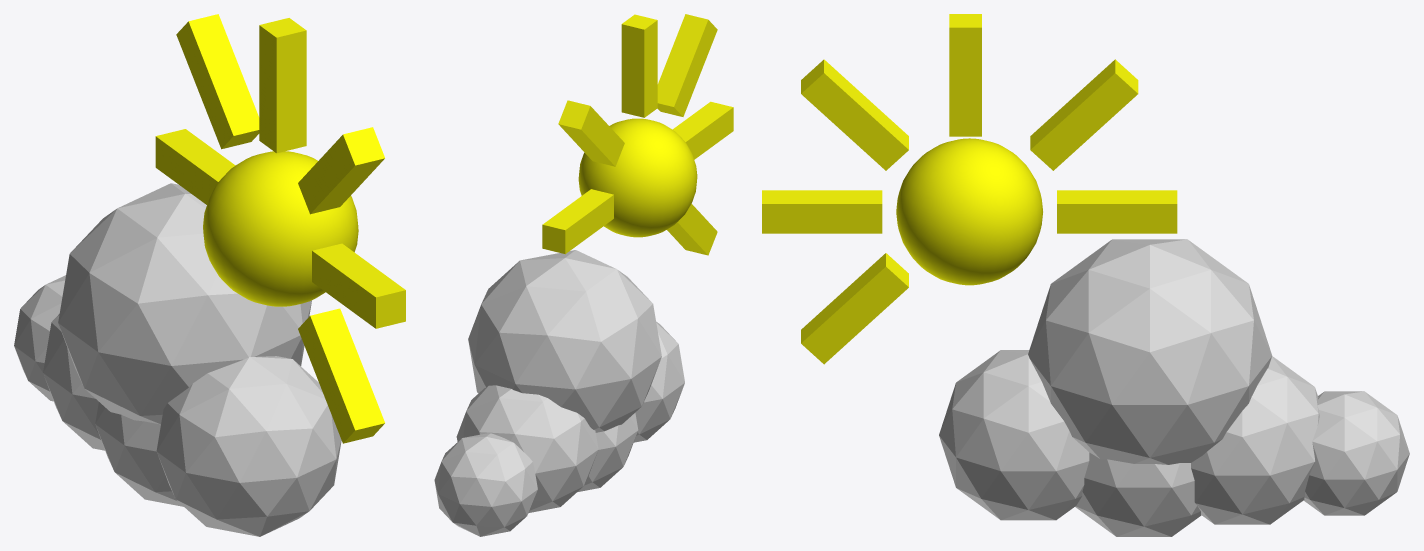
The model's file is Sunny.glb.
3 renders of one model, left to right at view 1: azimuth 30°, elevation 25°; view 2: azimuth 150°, elevation 25°; view 3: azimuth 270°, elevation 25°, orthographic. The views are drawn at different scales.
Visible parts, largest first — view 1: SunnyCloud, SunnySun; view 2: SunnyCloud, SunnySun; view 3: SunnyCloud, SunnySun.
Boxes of the visible parts, box(x1,y1,x2,y2) form: SunnyCloud: box(14, 183, 341, 536); SunnySun: box(155, 14, 405, 443); SunnyCloud: box(434, 250, 684, 536); SunnySun: box(542, 14, 733, 255); SunnyCloud: box(939, 239, 1409, 536); SunnySun: box(762, 14, 1177, 364).
Bounding box in the file's own units: 1.9 × 4.62 × 5.29.
